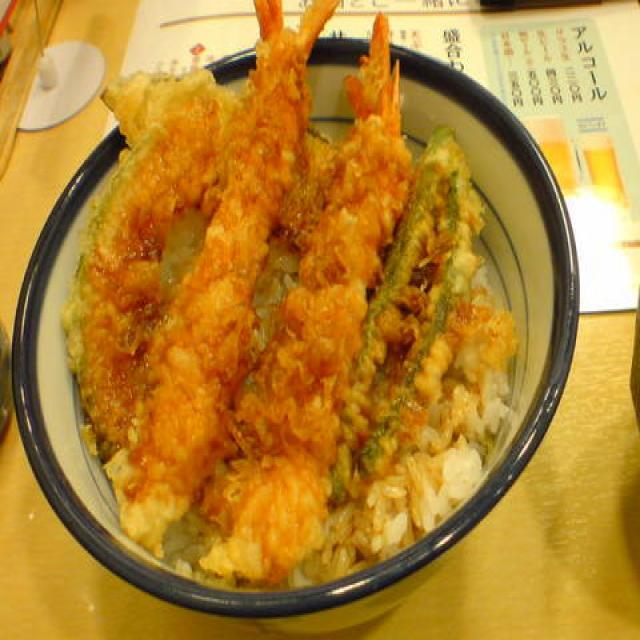熟制海鲜: (53, 29, 550, 602)
